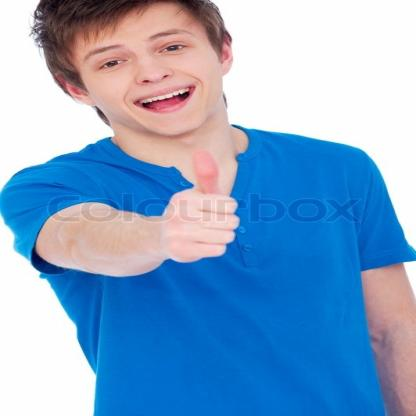Thumbs-Up: (161, 147, 242, 263)
